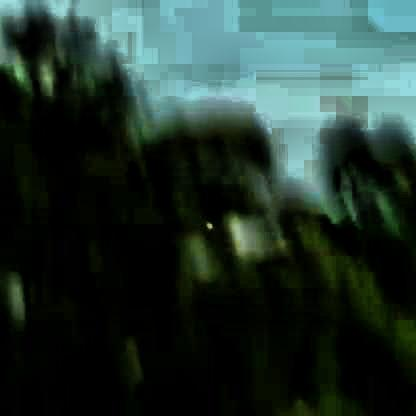golfball: (202, 218, 212, 228)
